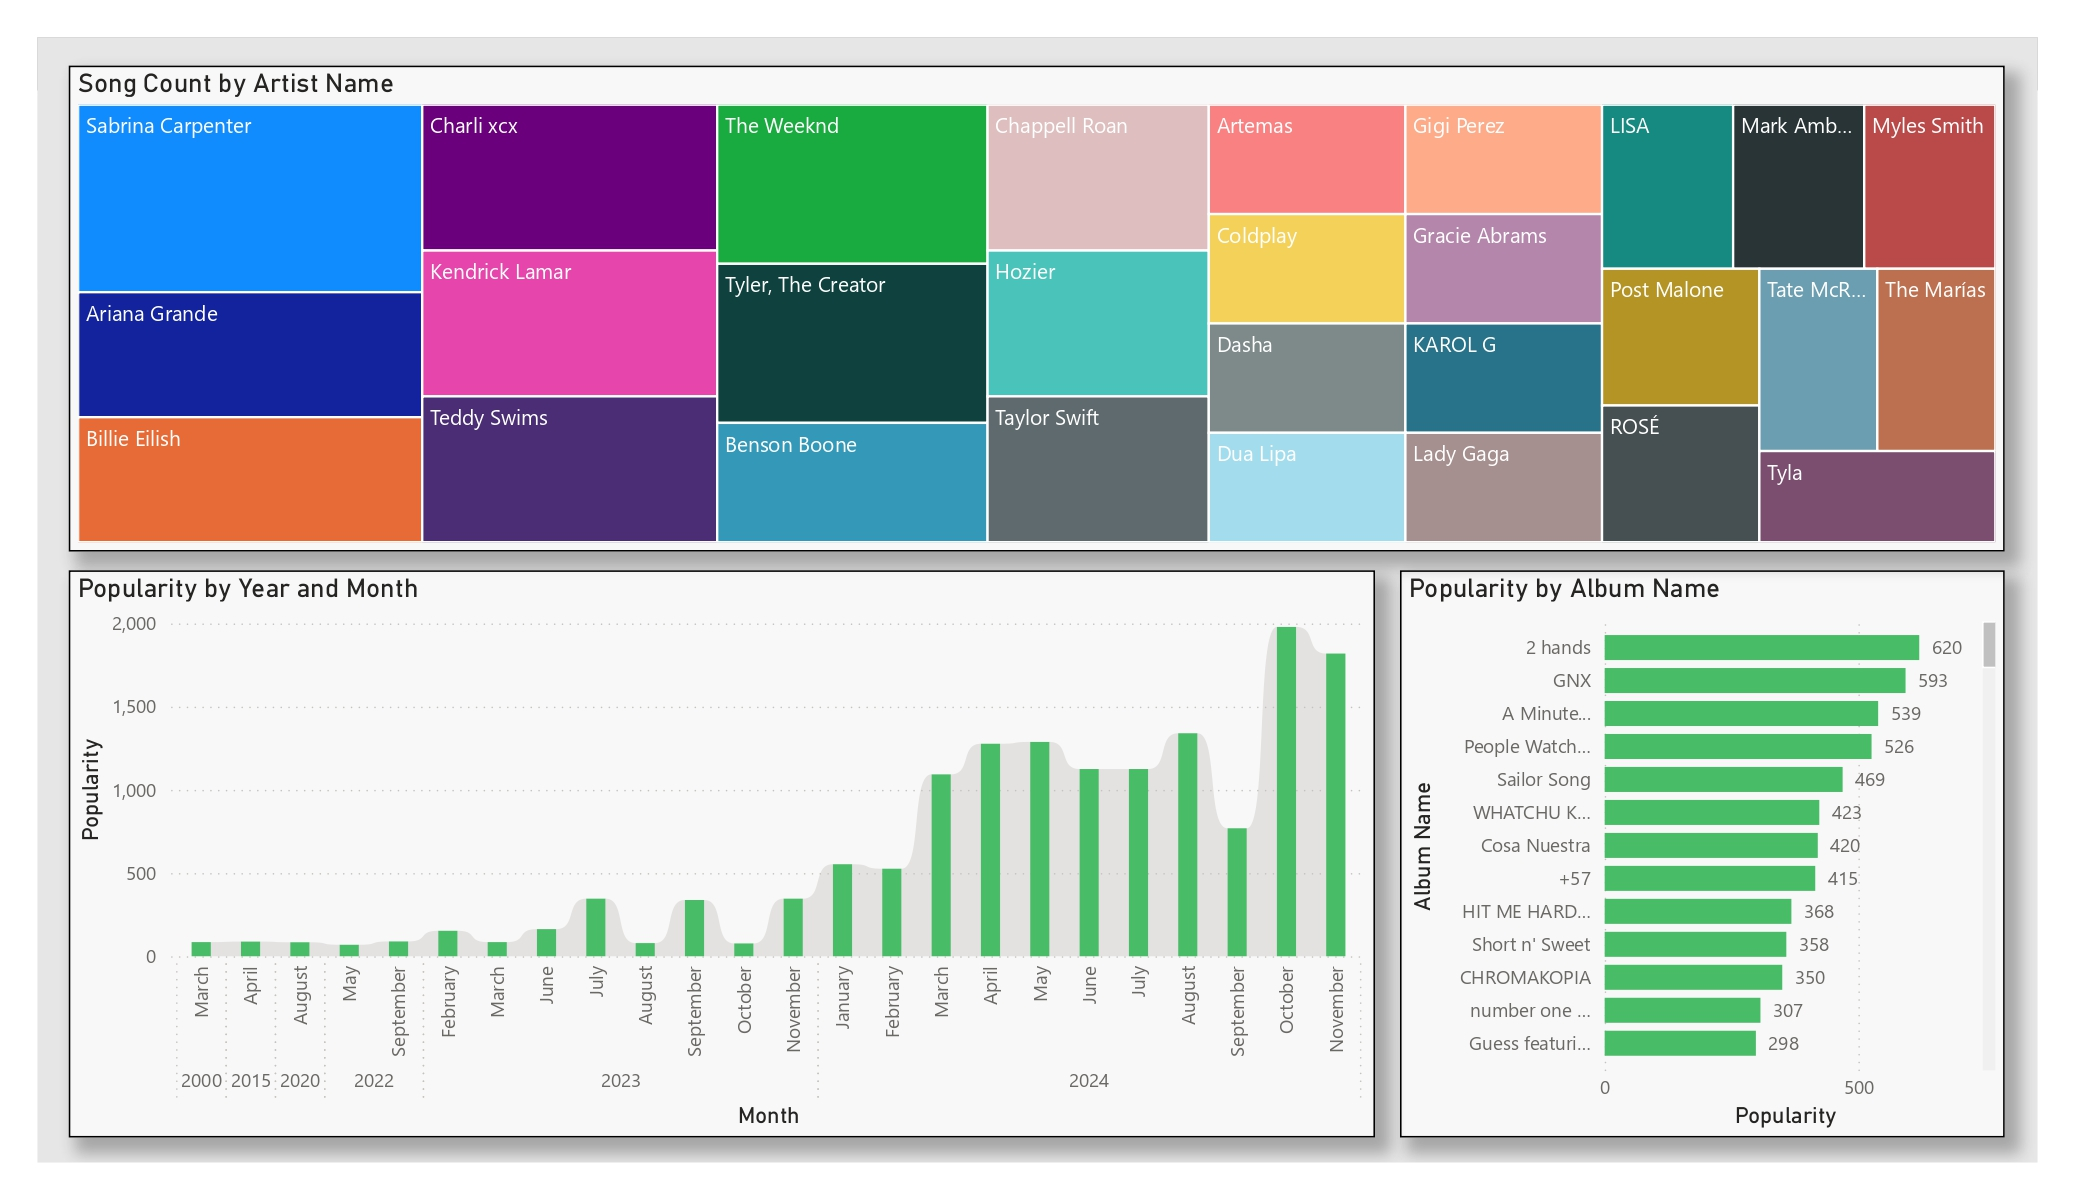

The dashboard page shown, as its layout file describes it:
{"tool":"powerbi","page":{"name":"SpotifyVisualization3","canvas":[1280,720],"ordinal":2},"visuals":[{"type":"clusteredBarChart","fields":{"Category":["ALBUM_PERFORMANCE_COMPARISON.ALBUM_NAME"],"Y":["ALBUM_PERFORMANCE_COMPARISON.TOTAL_POPULARITY"]},"box":[872.2,341.1,386.7,363.3],"z":1000},{"type":"treemap","fields":{"Group":["ARTIST_CONTRIBUTIONS.ARTIST_NAME","ALBUM_RELEASE_PERIODS.RELEASE_MONTH.Variation.Date Hierarchy.Year","ALBUM_RELEASE_PERIODS.RELEASE_MONTH.Variation.Date Hierarchy.Quarter","ALBUM_RELEASE_PERIODS.RELEASE_MONTH.Variation.Date Hierarchy.Month","ALBUM_RELEASE_PERIODS.RELEASE_MONTH.Variation.Date Hierarchy.Day"],"Values":["ARTIST_CONTRIBUTIONS.SONG_COUNT"]},"box":[20,17.8,1238.9,311.1],"z":2000},{"type":"ribbonChart","fields":{"Category":["ALBUM_RELEASE_PERIODS.RELEASE_MONTH.Variation.Date Hierarchy.Year","ALBUM_RELEASE_PERIODS.RELEASE_MONTH.Variation.Date Hierarchy.Month"],"Y":["ALBUM_RELEASE_PERIODS.TOTAL_POPULARITY"]},"box":[20,341.1,835.6,363.3],"z":3001}]}

Visuals, with their boxes on the page's 1280x720 design canvas (x1, y1, x2, y2). These are canvas units, not pixel positions in the 2075x1200 screenshot, which may show the page scaled, cropped or inside an application window:
clusteredBarChart - ALBUM_PERFORMANCE_COMPARISON.ALBUM_NAME x ALBUM_PERFORMANCE_COMPARISON.TOTAL_POPULARITY: [872,341,1259,704]
treemap - ARTIST_CONTRIBUTIONS.ARTIST_NAME x ALBUM_RELEASE_PERIODS.RELEASE_MONTH.Variation.Date Hierarchy.Year: [20,18,1259,329]
ribbonChart - ALBUM_RELEASE_PERIODS.RELEASE_MONTH.Variation.Date Hierarchy.Year x ALBUM_RELEASE_PERIODS.RELEASE_MONTH.Variation.Date Hierarchy.Month: [20,341,856,704]
